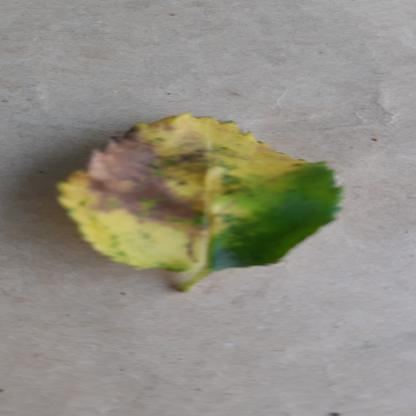black-spot: (55, 110, 351, 284)
